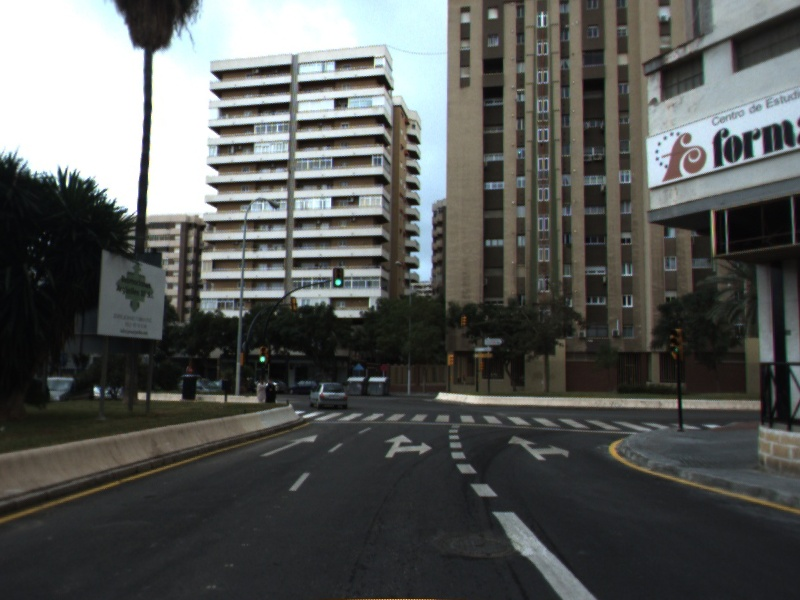STRAIGHT: (258, 432, 320, 458)
STRAIGHT_RIGHT: (506, 433, 571, 462), (382, 432, 435, 459)
